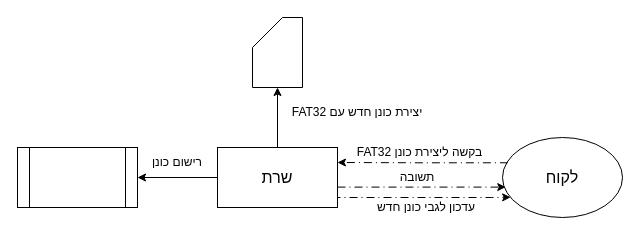
Image size: 640x240. Some labels were removed from this diagram. Each missing label, with the box of its shape:
כונן: (252, 16, 302, 88)
מסד נתונים: (16, 146, 138, 208)
